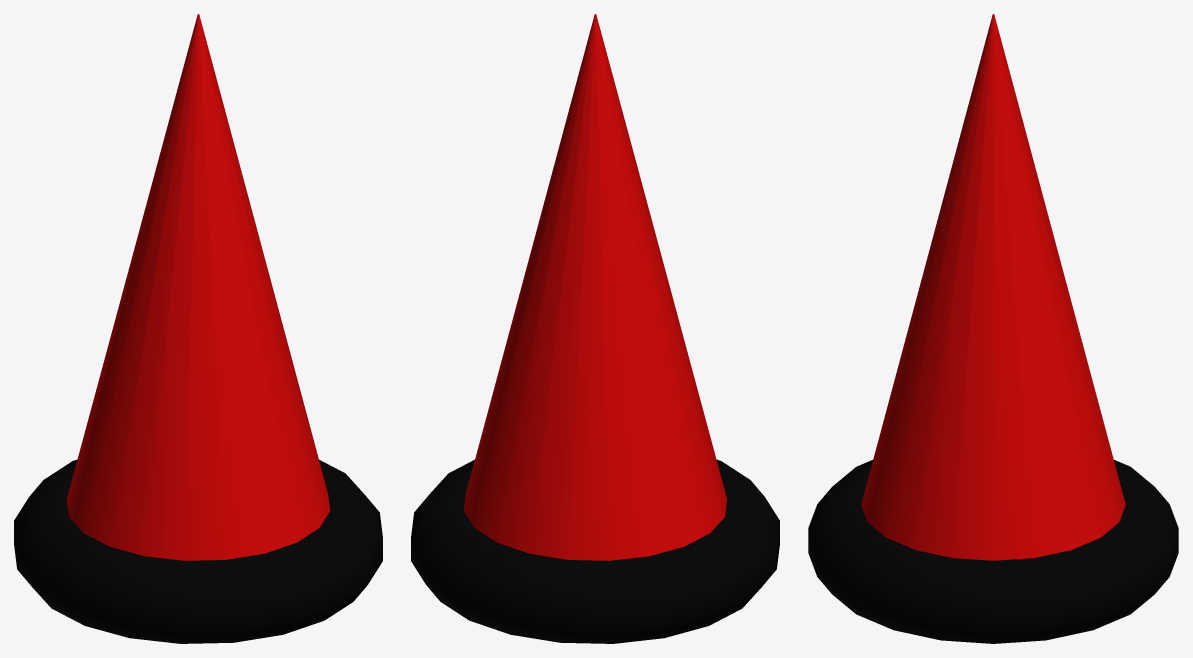
File: Spikes New.fbx
3 views of the same model, side by side, from view 1: azimuth 30°, elevation 25°; view 2: azimuth 150°, elevation 25°; view 3: azimuth 270°, elevation 25° (orthographic).
Parts seen in each view (by area): view 1: top1, Botam; view 2: top1, Botam; view 3: top1, Botam.
Part boxes in pixels (x1,y1,x2,y2): top1: (66, 14, 330, 560); Botam: (14, 459, 382, 643); top1: (463, 14, 727, 560); Botam: (411, 459, 779, 643); top1: (861, 14, 1125, 560); Botam: (808, 460, 1178, 643).
Size of the model in its own units: 3.29 by 5.53 by 3.29.
